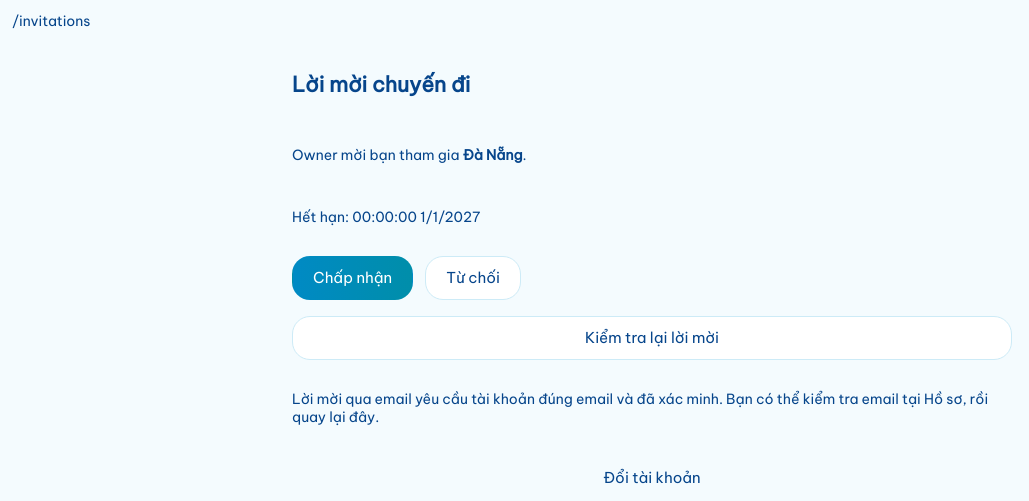
Scenario: invitation token and response flow › hides stale actions after a definitive conflict until preview is authoritative again
This screenshot has width=1029, height=501.
What coordinates should you click on to do the following:
click the button "Chấp nhận"
I would click on:
 (353, 278)
Its box is [292,256,413,300].
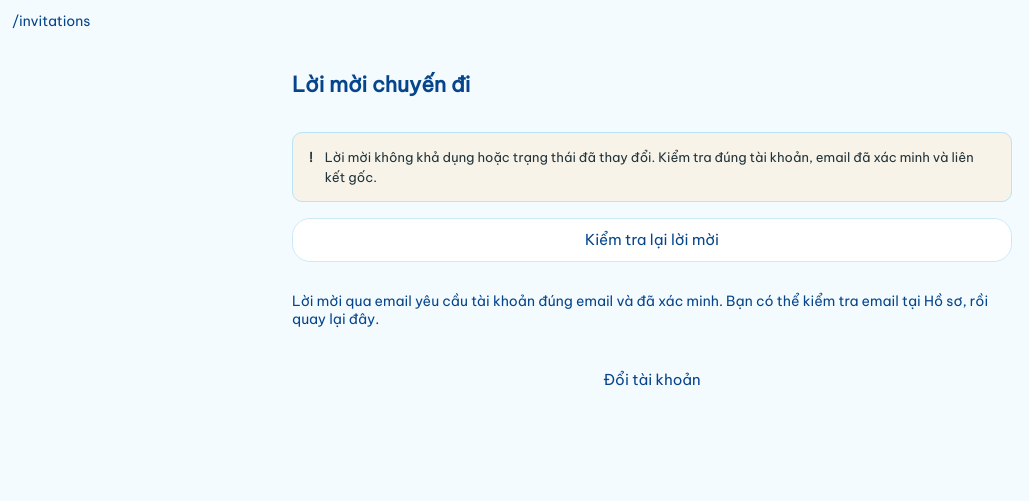
expect the text "Lời mời không khả dụng hoặc trạng thái đã thay đổi" is shown: met, box [325,149,974,185]
expect the button "Chấp nhận" is gone: met
expect the button "Từ chối" is gone: met
